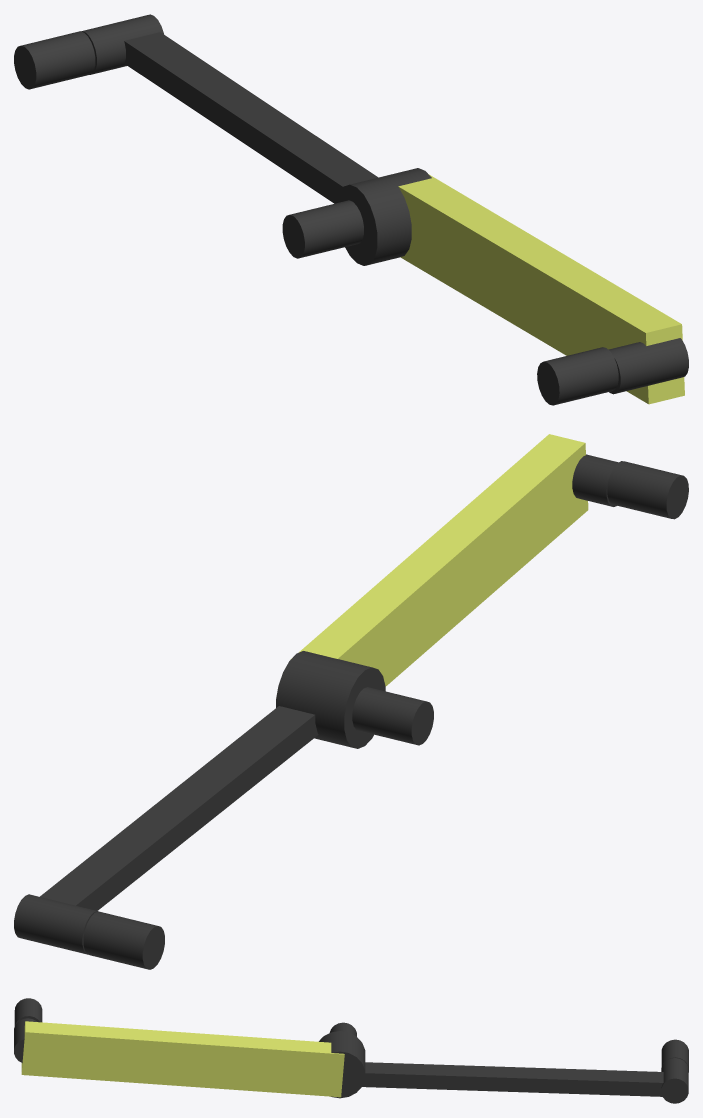
The model's file is Loc_p1.fbx.
3 views of the same model, one above another, from view 1: azimuth 30°, elevation 25°; view 2: azimuth 150°, elevation 25°; view 3: azimuth 270°, elevation 25° (orthographic). The views are drawn at different scales.
Visible parts, largest first — view 1: Box047.003; view 2: Box047.003; view 3: Box047.003.
Boxes of the visible parts, x1,y1,x2,y2 form: Box047.003: (14,14,688,405); Box047.003: (14,434,688,969); Box047.003: (14,998,688,1103).
Size of the model in its own units: 214 by 183 by 1546.
